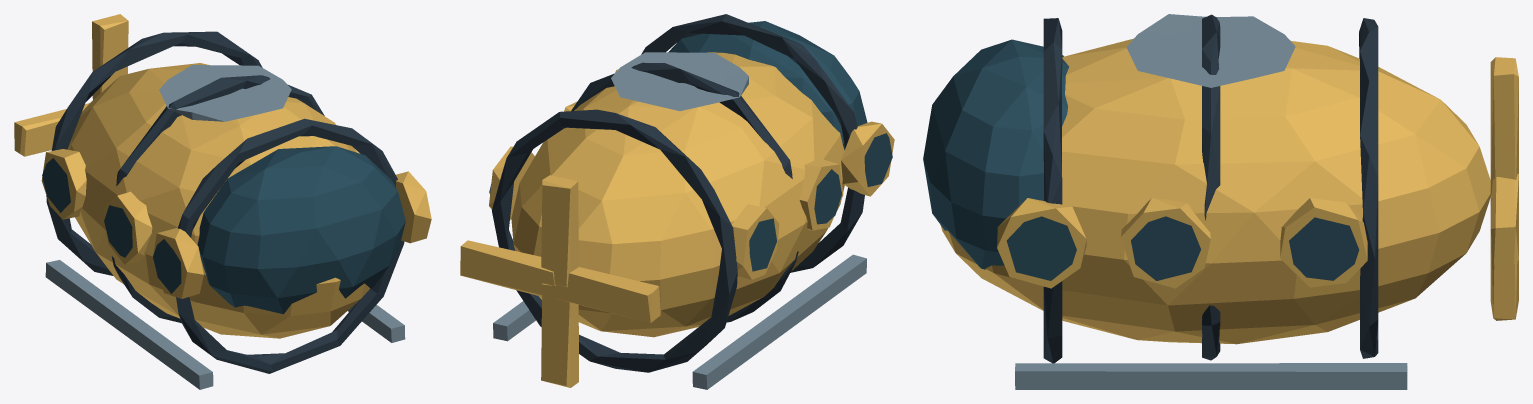
File: submarines-diving-capsule.lod1.glb
The picture shows the model from 3 angles, left to right: view 1: azimuth 30°, elevation 25°; view 2: azimuth 150°, elevation 25°; view 3: azimuth 270°, elevation 25°; orthographic projection. The views are drawn at different scales.
Visible parts, largest first — view 1: submarines-diving-capsule__body, submarines-diving-capsule__hatch, submarines-diving-capsule__propeller; view 2: submarines-diving-capsule__body, submarines-diving-capsule__propeller, submarines-diving-capsule__hatch; view 3: submarines-diving-capsule__body, submarines-diving-capsule__hatch, submarines-diving-capsule__propeller.
Boxes of the visible parts, x1,y1,x2,y2 form: submarines-diving-capsule__body: (41, 31, 431, 389); submarines-diving-capsule__hatch: (159, 65, 291, 121); submarines-diving-capsule__propeller: (14, 14, 128, 156); submarines-diving-capsule__body: (489, 14, 894, 389); submarines-diving-capsule__propeller: (460, 175, 660, 387); submarines-diving-capsule__hatch: (611, 52, 748, 111); submarines-diving-capsule__body: (923, 14, 1490, 389); submarines-diving-capsule__hatch: (1126, 14, 1295, 87); submarines-diving-capsule__propeller: (1490, 57, 1518, 320).
Size of the model in its own units: 1.57 by 1.47 by 2.53.
